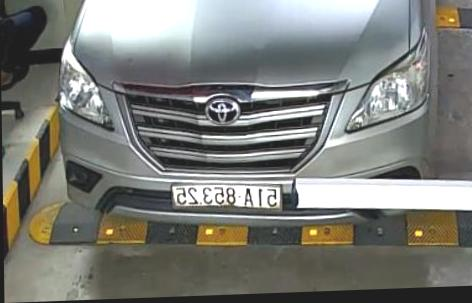License_Plate: (169, 177, 281, 220)
